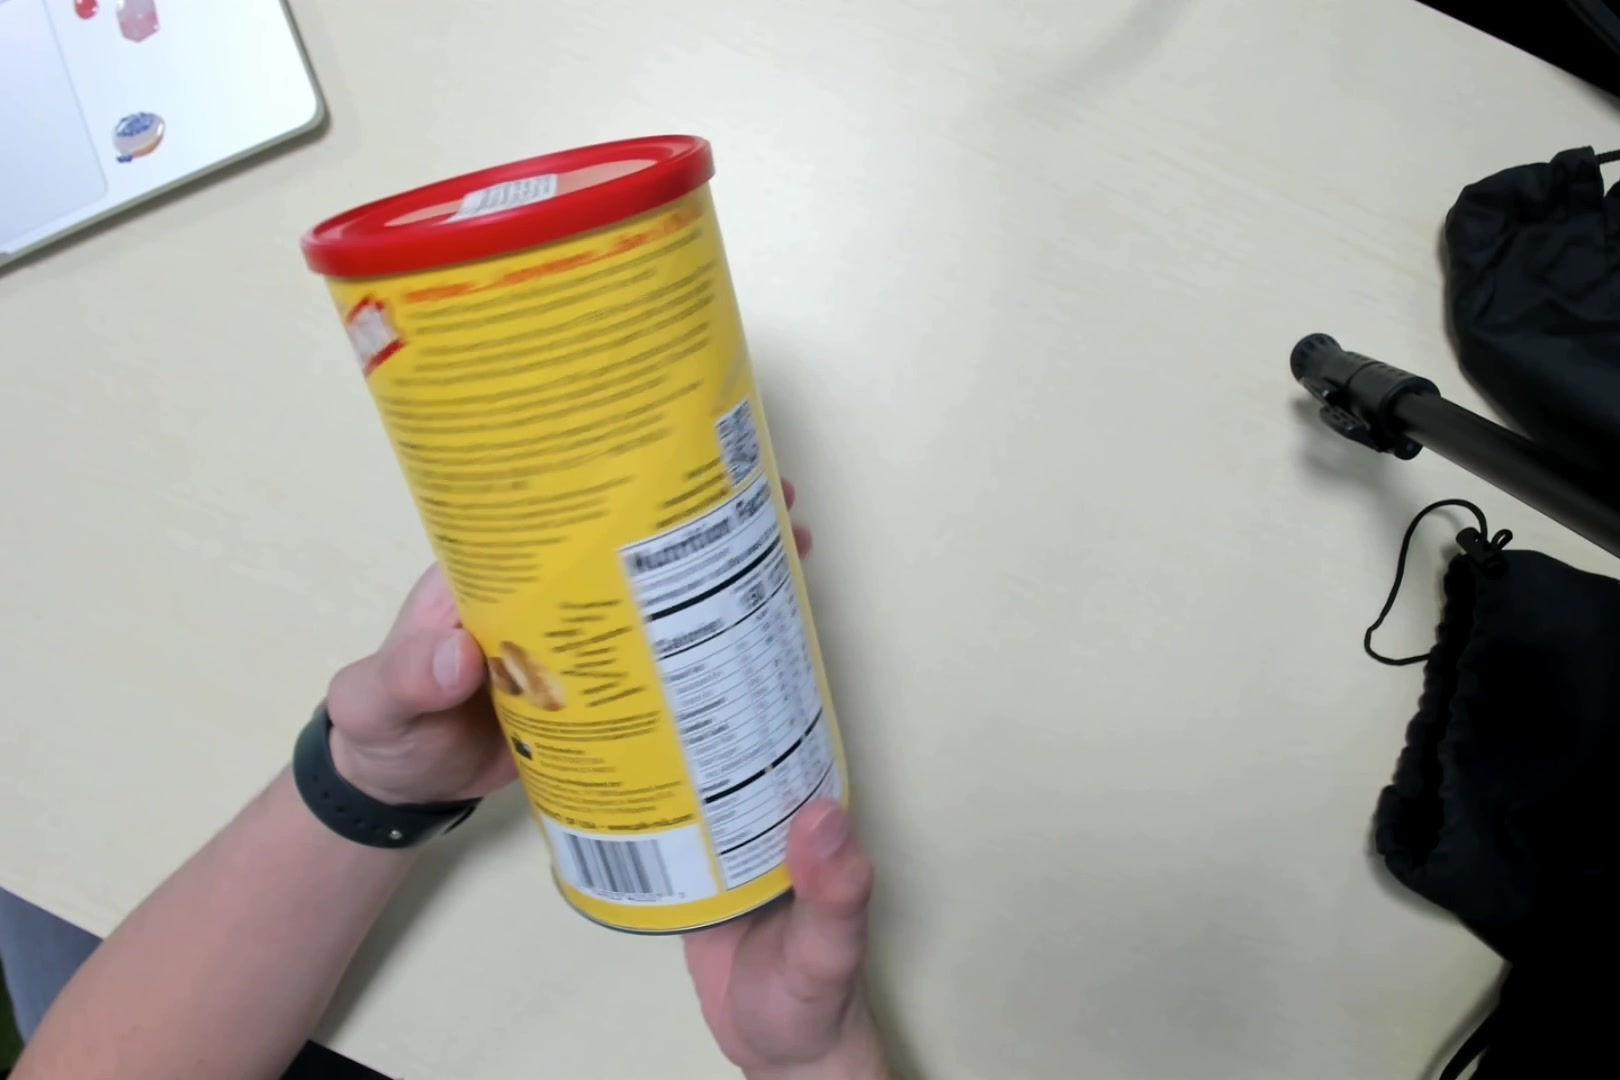PotatoChipsKeropok_200-299g_NonHalal_NonHealthy: (323, 137, 862, 938)
